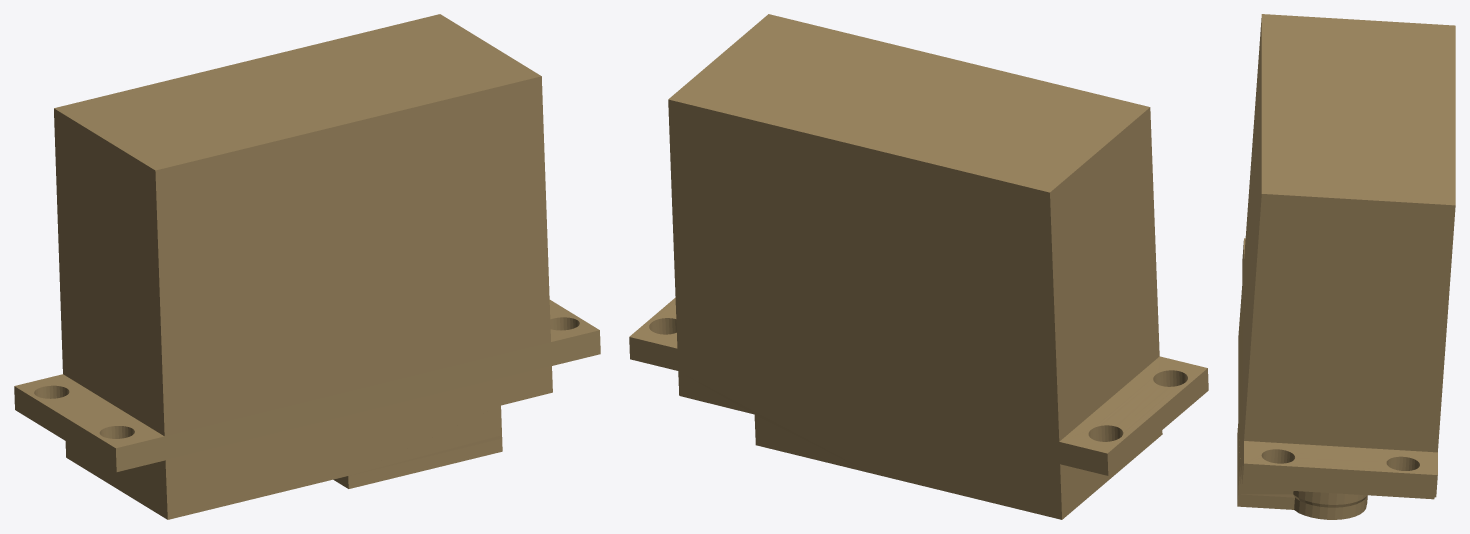
File: left_shoulder_x_link_visual_4.obj.full.glb
3 renders of one model, left to right at view 1: azimuth 30°, elevation 25°; view 2: azimuth 150°, elevation 25°; view 3: azimuth 270°, elevation 25°, orthographic. The views are drawn at different scales.
Bounding box in the file's own units: 0.7755 × 0.5533 × 0.3176.
